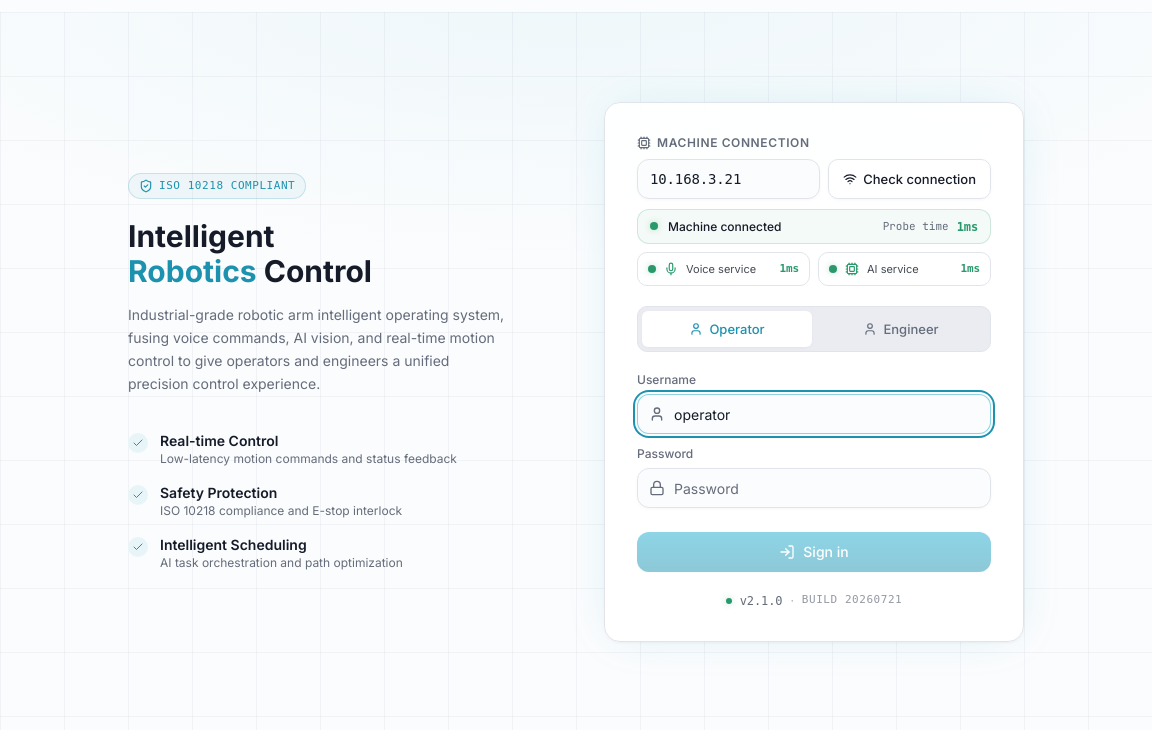
App layout › keeps long automation details expandable without nested scrolling
Replace the text in the field with placeholder "Username" with "engineer" at (814, 414), box [637, 394, 991, 434]
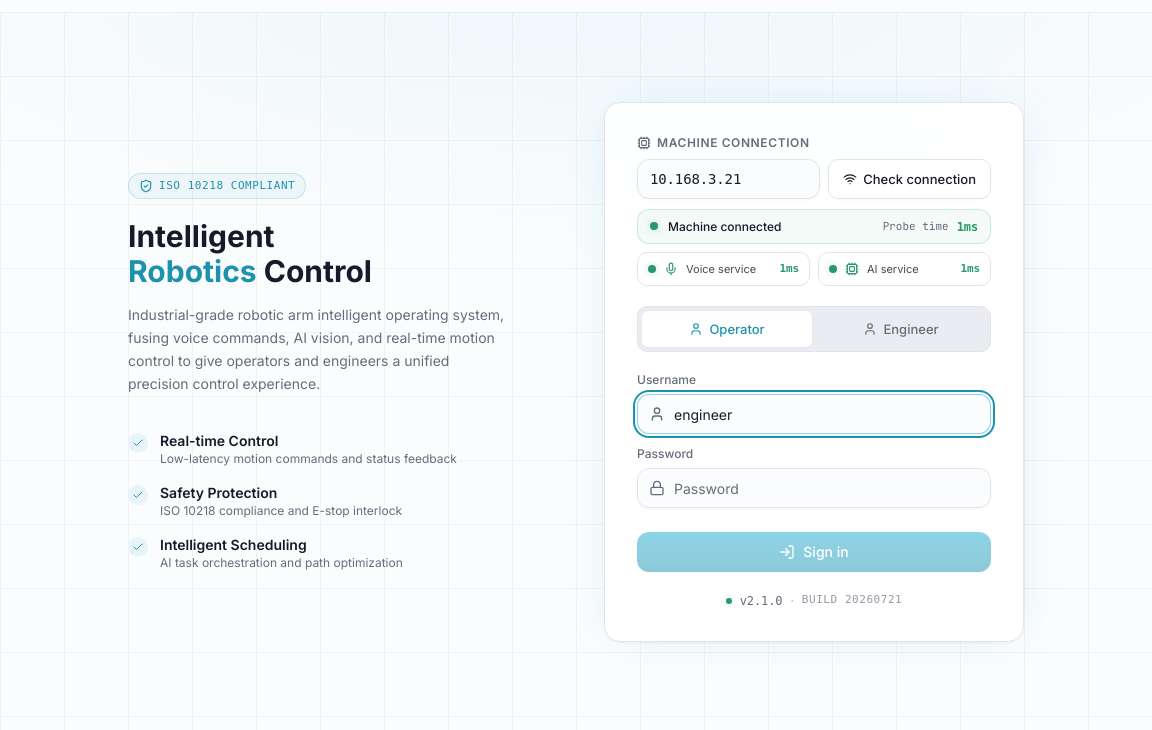
Type "pass" into the password field with placeholder "Password" at (814, 488), box [637, 468, 991, 508]
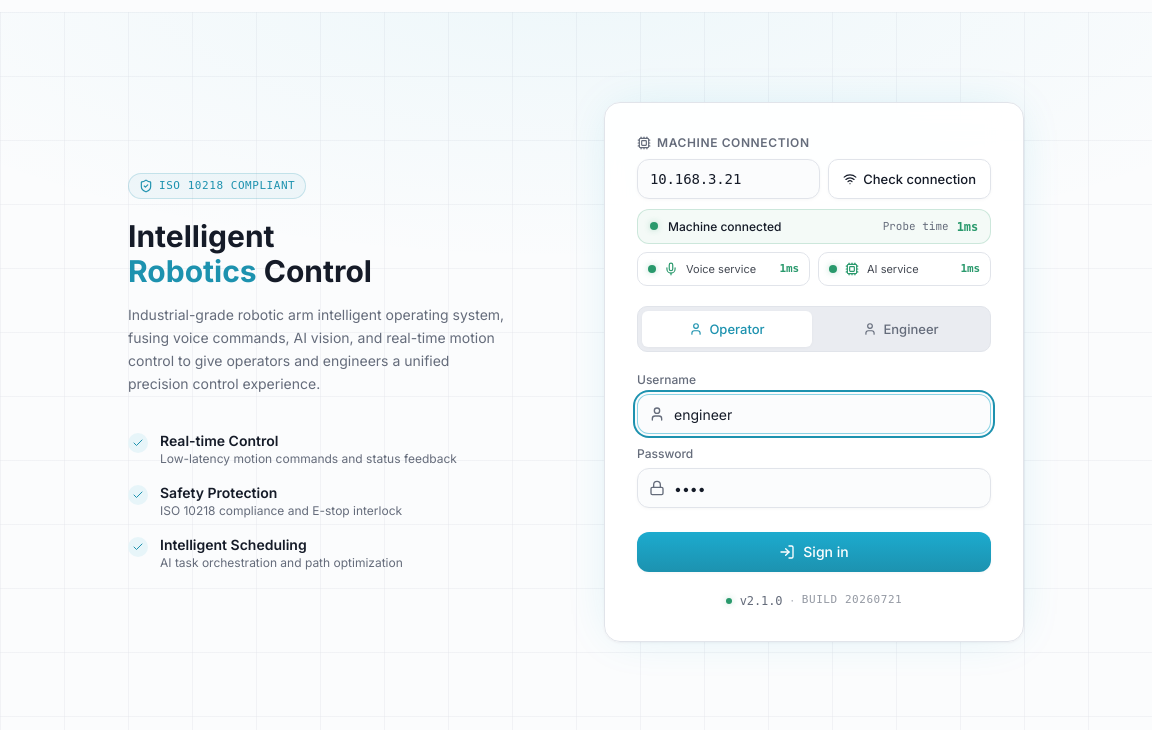
Click the submit button at (814, 552), box [637, 532, 991, 572]
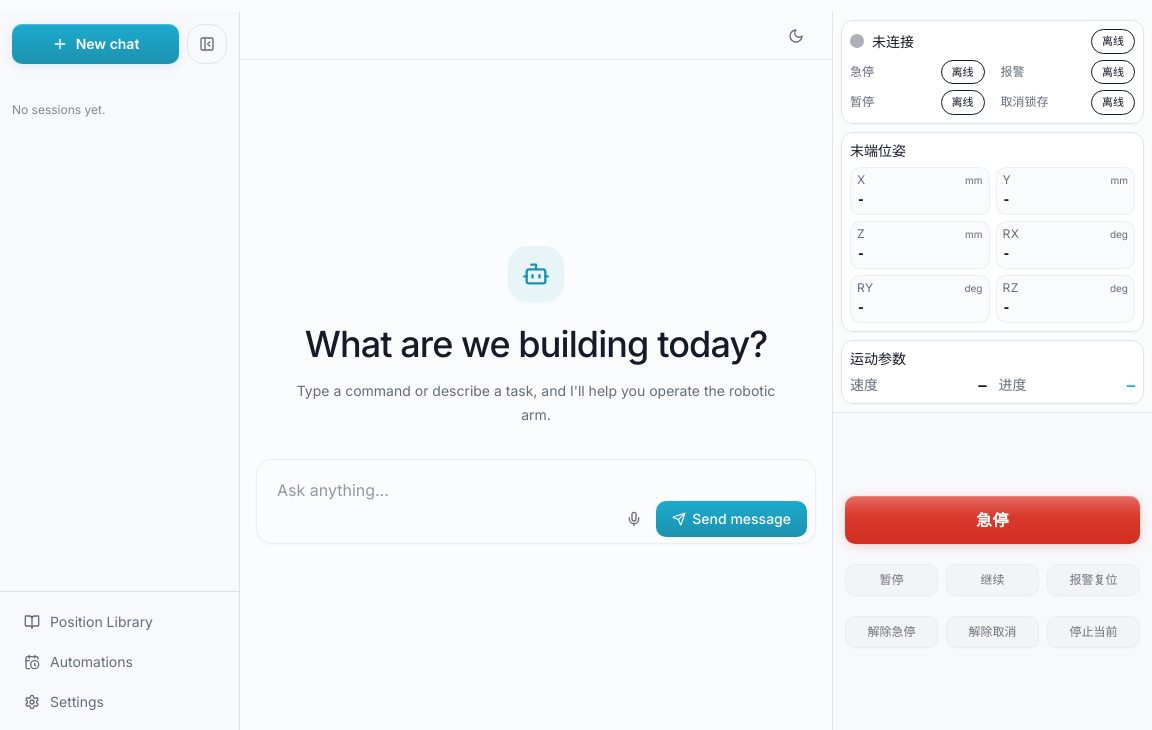
Click the button "Automations" at (120, 662), box [12, 644, 227, 680]
(page scrolled)
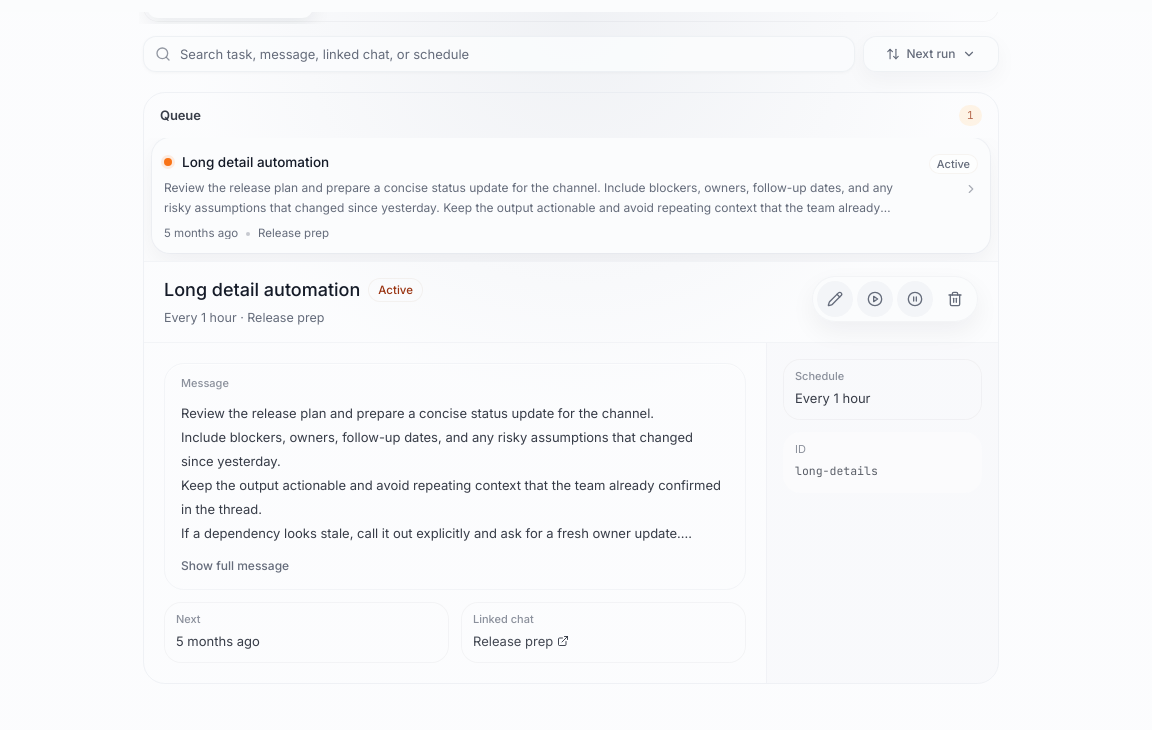
Now the element "Long detail automation" is shown, box [144, 262, 998, 683]
Click the button "Show full message" at (235, 566), box [181, 557, 289, 575]
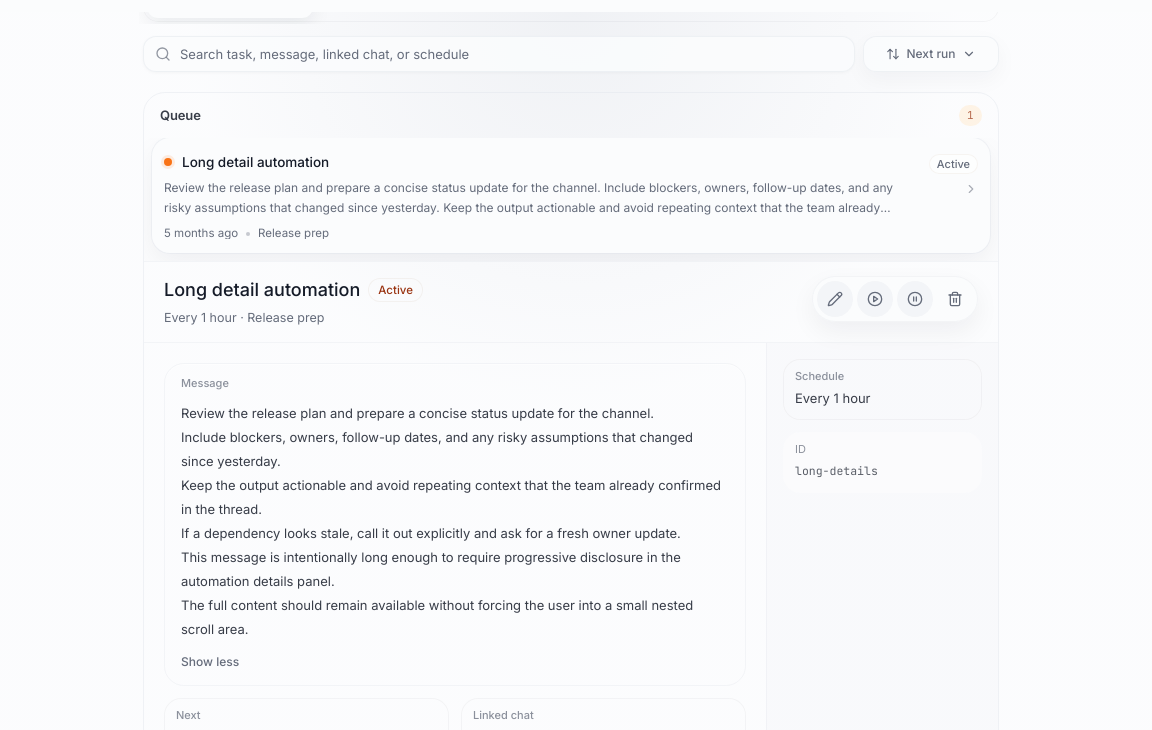
Now the button "Show less" is shown, box [181, 653, 239, 671]
